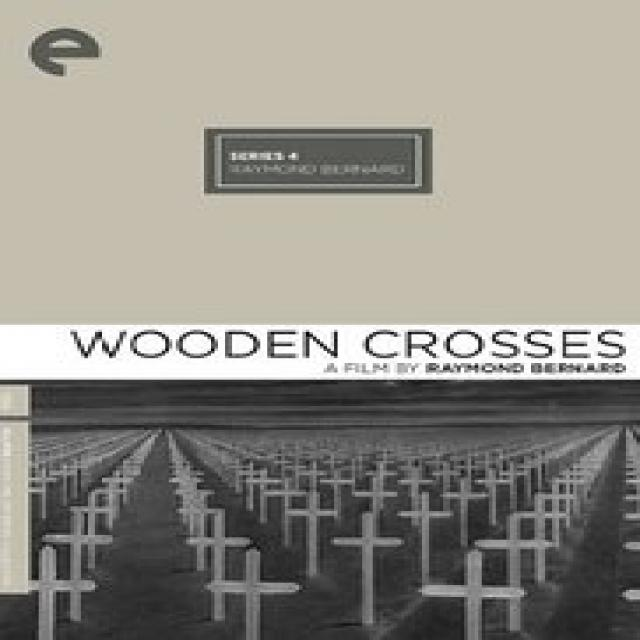movie-judul: (61, 318, 634, 362)
picture: (0, 379, 640, 640)
